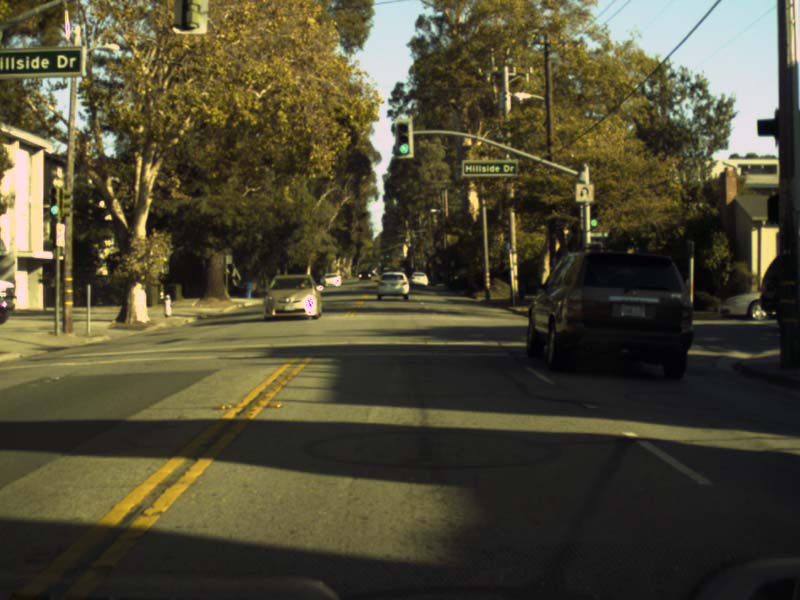Green: (394, 119, 414, 158), (49, 187, 57, 215), (590, 204, 597, 227), (385, 250, 389, 258)
